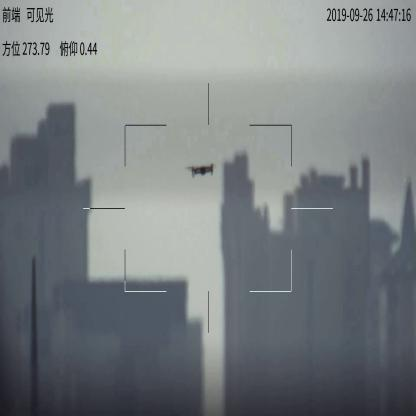uav: (186, 155, 220, 175)
